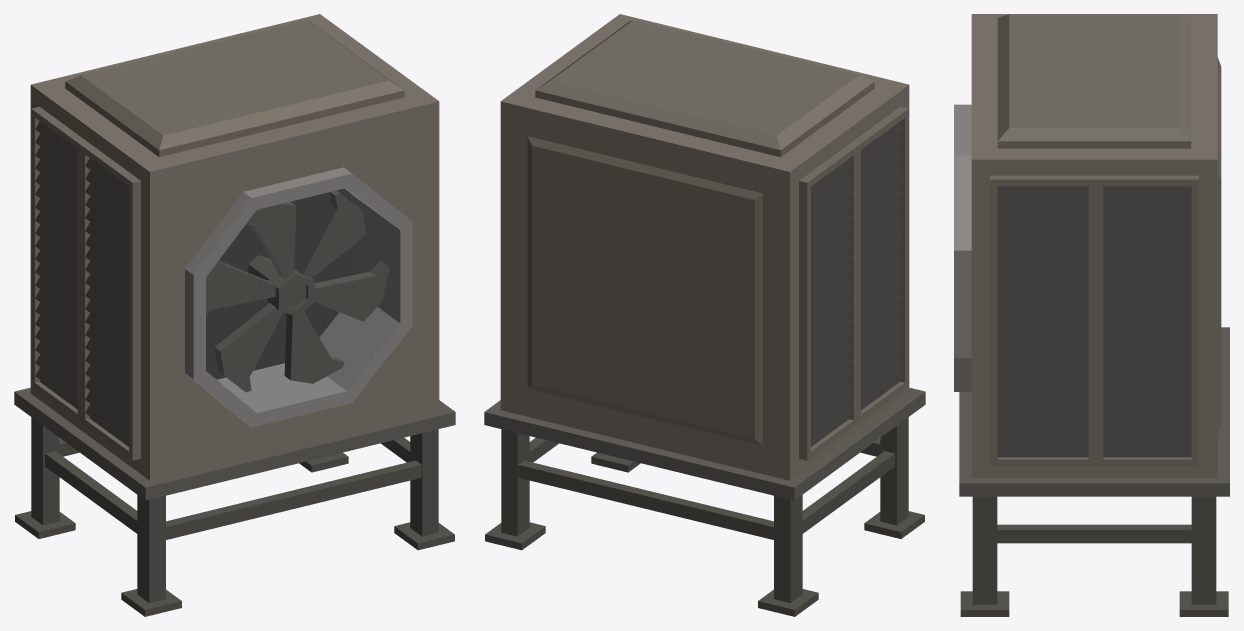
File: SM_Props_Roof_Vent_AC_Unit_03.fbx
3 renders of one model, left to right at view 1: azimuth 30°, elevation 25°; view 2: azimuth 150°, elevation 25°; view 3: azimuth 270°, elevation 25°, orthographic. The views are drawn at different scales.
Parts seen in each view (by area): view 1: SM_Props_Roof_Vent_AC_Unit_03, SM_Props_Roof_Vent_AC_Unit_03_Fan; view 2: SM_Props_Roof_Vent_AC_Unit_03; view 3: SM_Props_Roof_Vent_AC_Unit_03.
Part boxes in pixels (x1=…): SM_Props_Roof_Vent_AC_Unit_03: x1=14, y1=14, x2=455, y2=616; SM_Props_Roof_Vent_AC_Unit_03_Fan: x1=206, y1=190, x2=389, y2=392; SM_Props_Roof_Vent_AC_Unit_03: x1=484, y1=14, x2=925, y2=616; SM_Props_Roof_Vent_AC_Unit_03: x1=954, y1=14, x2=1229, y2=616.
Bounding box in the file's own units: 150 × 210 × 112.
